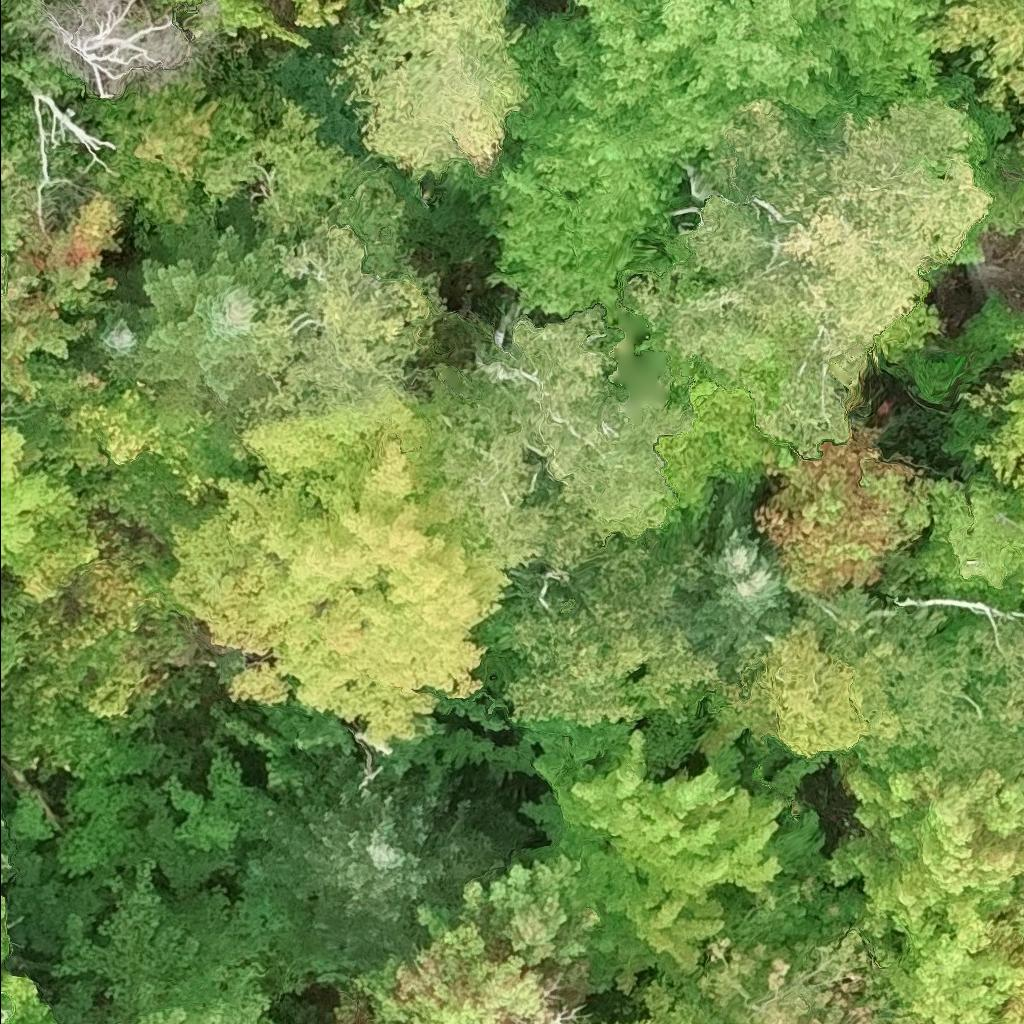crown: (627, 95, 995, 459), (474, 0, 866, 318), (165, 390, 516, 742), (426, 303, 696, 578), (520, 722, 787, 977), (259, 767, 530, 970), (825, 761, 1023, 1023), (503, 540, 722, 731), (48, 857, 292, 1023), (248, 218, 444, 421), (671, 873, 922, 1023), (693, 611, 913, 774), (328, 903, 591, 1023), (131, 221, 302, 405), (752, 425, 933, 594), (450, 846, 657, 993), (654, 480, 795, 690), (0, 190, 121, 413), (96, 77, 260, 237), (879, 607, 1023, 782), (57, 381, 246, 504), (139, 738, 284, 895), (789, 0, 945, 108), (0, 419, 99, 575), (915, 469, 1023, 607), (52, 0, 191, 101), (106, 955, 279, 1023), (924, 0, 1023, 110), (960, 365, 1023, 493), (587, 984, 719, 1023), (79, 299, 140, 367), (223, 0, 313, 45), (0, 612, 42, 694), (292, 0, 348, 29), (0, 275, 11, 317), (1016, 120, 1023, 176), (403, 0, 435, 12), (0, 997, 3, 1023)
